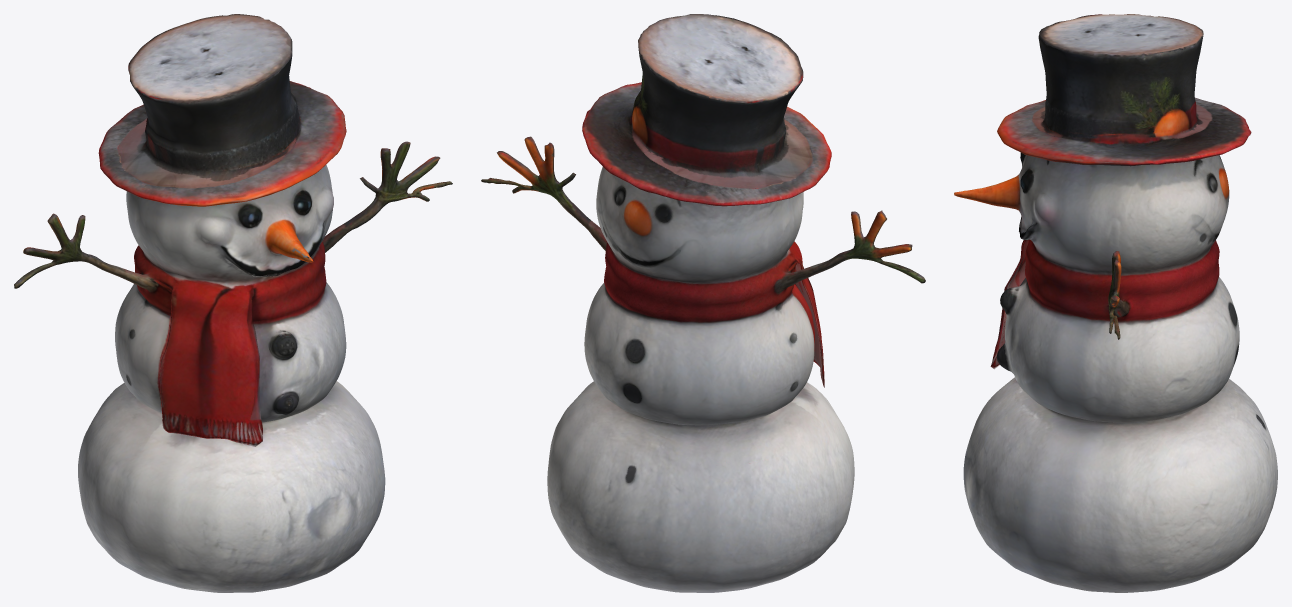
File: snowman.glb
3 renders of one model, left to right at view 1: azimuth 30°, elevation 25°; view 2: azimuth 150°, elevation 25°; view 3: azimuth 270°, elevation 25°, orthographic.
Size of the model in its own units: 1.76 by 2 by 1.1.
1 material, 1 textured.
